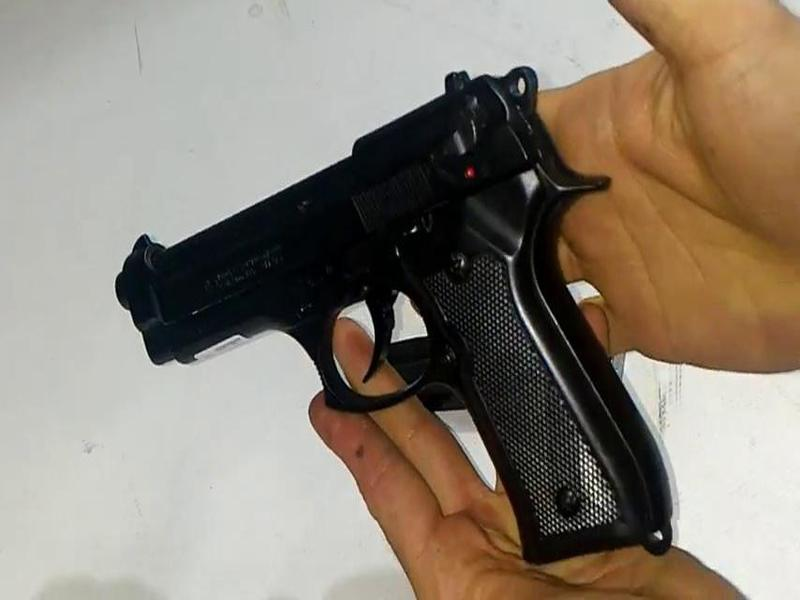Pistola: (95, 58, 691, 550)
